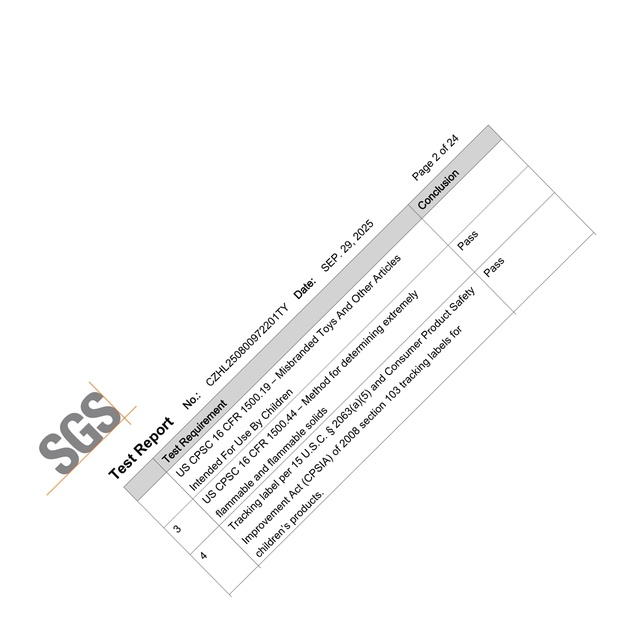sgs: (38, 391, 121, 475)
